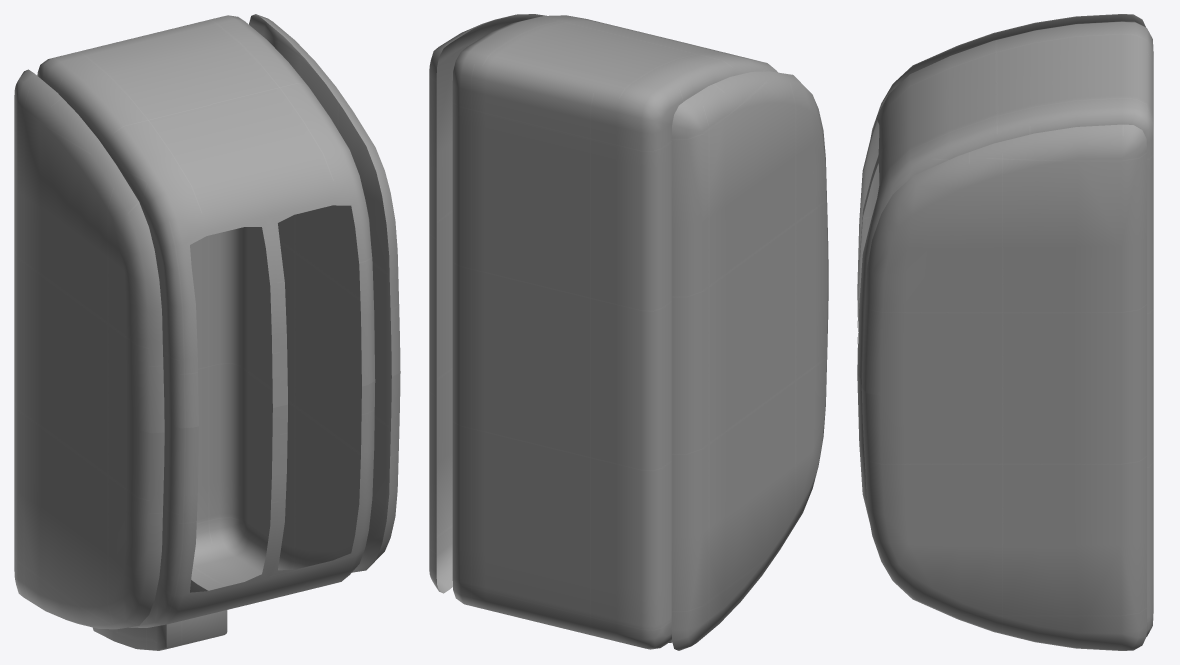
File: MeshToaster_17_0_GeomSubset_0.obj
3 renders of one model, left to right at view 1: azimuth 30°, elevation 25°; view 2: azimuth 150°, elevation 25°; view 3: azimuth 270°, elevation 25°, orthographic. The views are drawn at different scales.
Parts seen in each view (by area): view 1: MeshToaster_17_0_GeomSubset_0; view 2: MeshToaster_17_0_GeomSubset_0; view 3: MeshToaster_17_0_GeomSubset_0.
Boxes of the visible parts, bbox=[...] form: MeshToaster_17_0_GeomSubset_0: bbox=[14, 14, 400, 650]; MeshToaster_17_0_GeomSubset_0: bbox=[429, 14, 828, 650]; MeshToaster_17_0_GeomSubset_0: bbox=[857, 14, 1153, 650].
Bounding box in the file's own units: 0.2103 × 0.4277 × 0.2159.
